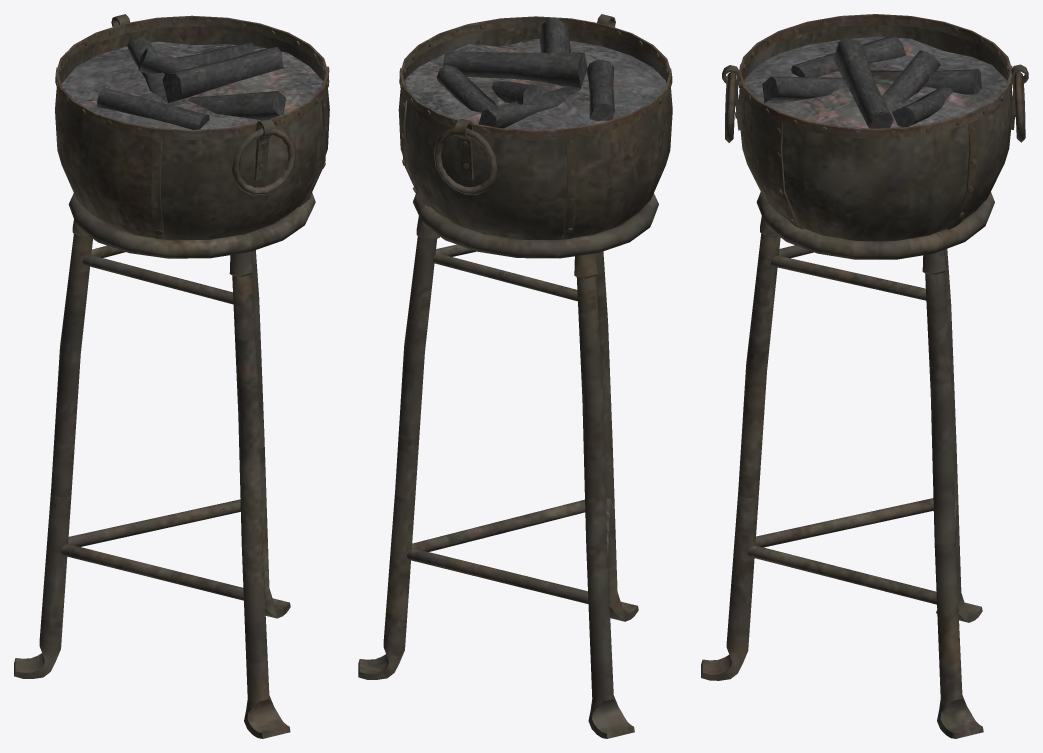
Rendered from GEN_PRO_Brasero_Medium_Metal_01A_LOD0-transformed.glb.
3 renders of one model, left to right at view 1: azimuth 30°, elevation 25°; view 2: azimuth 150°, elevation 25°; view 3: azimuth 270°, elevation 25°, orthographic.
Visible parts, largest first — view 1: default; view 2: default; view 3: default.
Part boxes in pixels (box(x1,y1,x2,y2)): default: box(14, 14, 329, 738); default: box(358, 14, 672, 738); default: box(701, 14, 1028, 738).
Bounding box in the file's own units: 0.5305 × 1.13 × 0.5408.
Materials: 2 (2 with a texture image).
